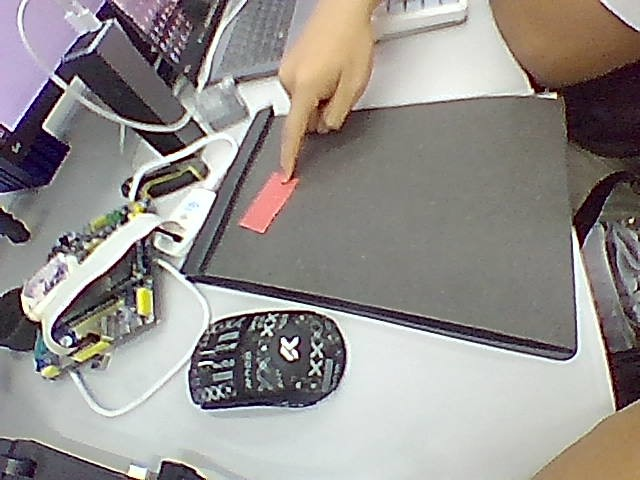card: (239, 173, 298, 233)
